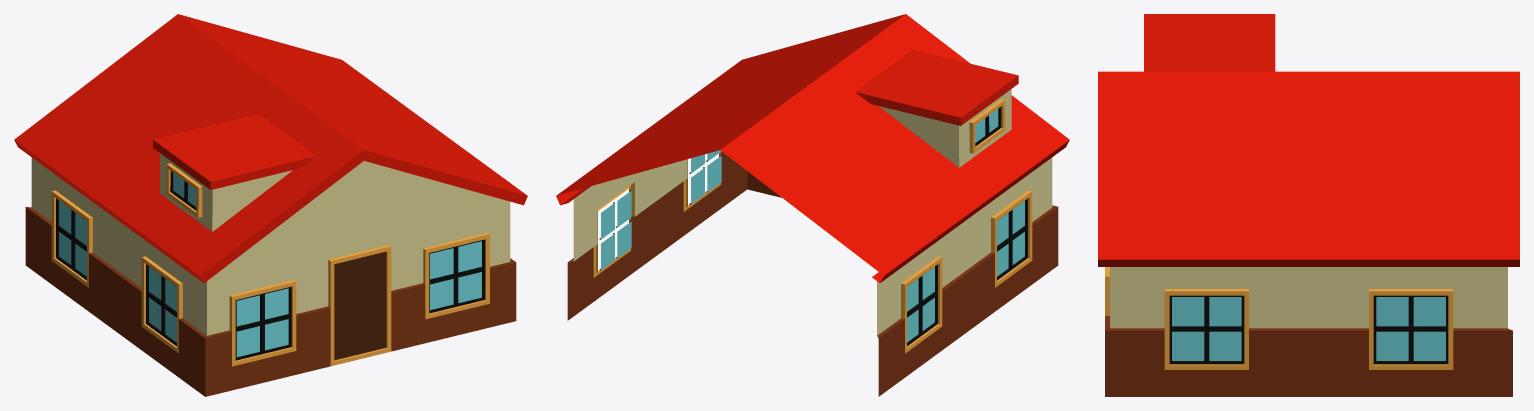
The model's file is 04-Fourth-House-01.fbx.
The picture shows the model from 3 angles, left to right: view 1: azimuth 30°, elevation 25°; view 2: azimuth 150°, elevation 25°; view 3: azimuth 270°, elevation 25°; orthographic projection. The views are drawn at different scales.
Visible parts, largest first — view 1: House.Mesh.Fourth; view 2: House.Mesh.Fourth; view 3: House.Mesh.Fourth.
Boxes of the visible parts, x1,y1,x2,y2 form: House.Mesh.Fourth: (14, 14, 527, 396); House.Mesh.Fourth: (556, 14, 1069, 396); House.Mesh.Fourth: (1098, 14, 1519, 396).
Size of the model in its own units: 4.32 by 2.66 by 4.24.
